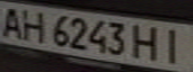2: (66, 15, 90, 52)
3: (106, 19, 130, 57)
4: (87, 17, 109, 55)
6: (45, 12, 72, 48)
A: (0, 3, 27, 39)
H: (130, 21, 166, 62), (18, 8, 48, 43)
I: (157, 25, 190, 64)
